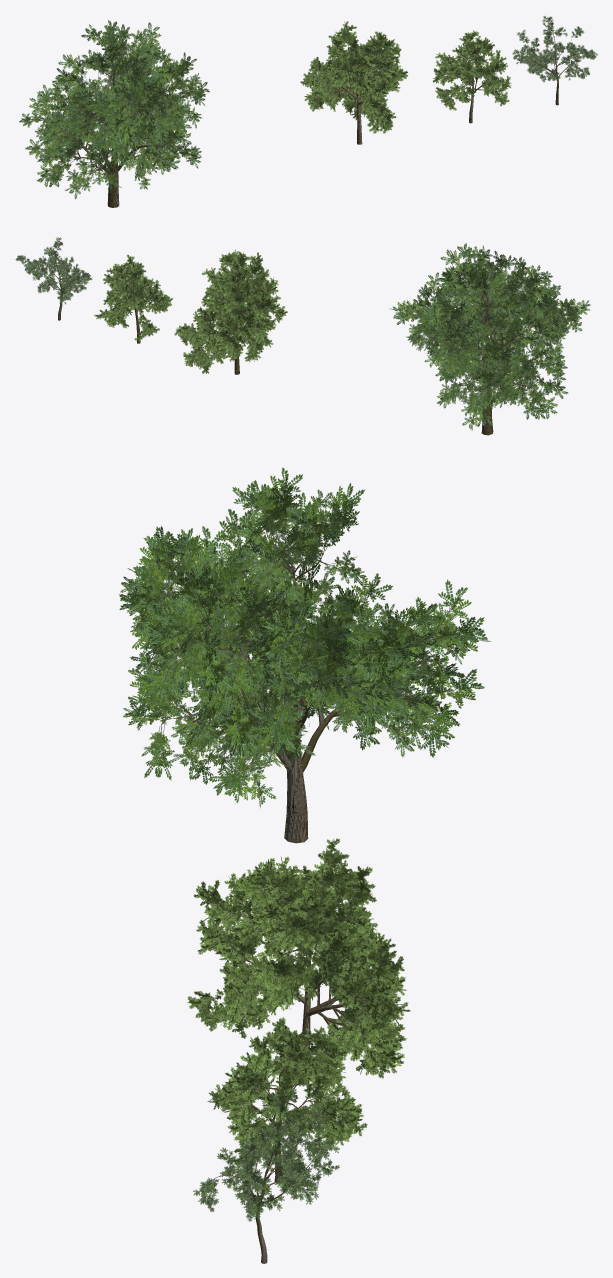
File: trees.glb
The picture shows the model from 3 angles, top to bottom: view 1: azimuth 30°, elevation 25°; view 2: azimuth 150°, elevation 25°; view 3: azimuth 270°, elevation 25°; orthographic projection. The views are drawn at different scales.
Parts seen in each view (by area): view 1: Tree EZTree0.Large, Tree EZTree0.Medium010, Tree EZTree0.Medium011, Tree EZTree1.Medium002; view 2: Tree EZTree0.Large, Tree EZTree0.Medium010, Tree EZTree0.Medium011, Tree EZTree1.Medium002; view 3: Tree EZTree0.Large, Tree EZTree0.Medium010, Tree EZTree0.Medium011, Tree EZTree1.Medium002.
Part boxes in pixels (x1,y1,x2,y2): Tree EZTree0.Large: (19, 20, 209, 207); Tree EZTree0.Medium010: (300, 21, 407, 144); Tree EZTree0.Medium011: (432, 30, 511, 123); Tree EZTree1.Medium002: (512, 16, 597, 105); Tree EZTree0.Large: (389, 243, 590, 435); Tree EZTree0.Medium010: (174, 249, 287, 374); Tree EZTree0.Medium011: (94, 254, 172, 343); Tree EZTree1.Medium002: (15, 237, 92, 320); Tree EZTree0.Large: (119, 467, 490, 843); Tree EZTree0.Medium010: (187, 838, 410, 1078); Tree EZTree0.Medium011: (207, 1017, 367, 1183); Tree EZTree1.Medium002: (193, 1087, 339, 1263).
Bounding box in the file's own units: 326 × 103 × 98.69.
Materials: 3 (3 with a texture image).
